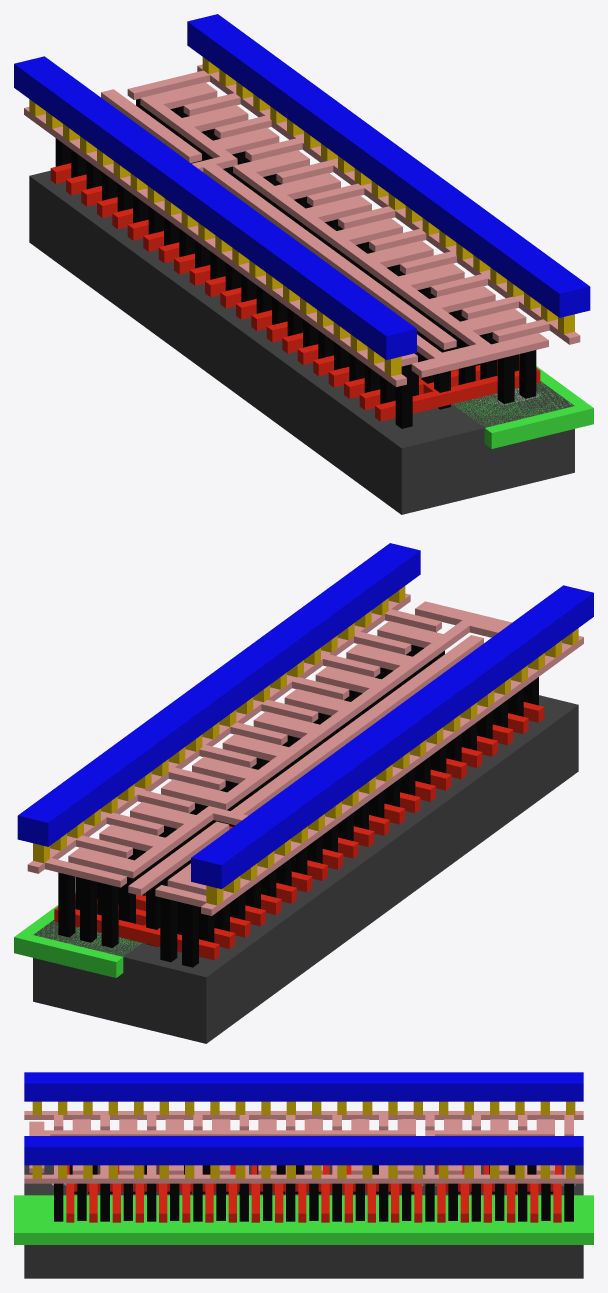
Rendered from sky130_fd_sc_hd__buf_16.obj.
3 views of the same model, one above another, from view 1: azimuth 30°, elevation 25°; view 2: azimuth 150°, elevation 25°; view 3: azimuth 270°, elevation 25° (orthographic). The views are drawn at different scales.
Parts seen in each view (by area): view 1: subs, metal1, li, licon, poly, mcon, nwell; view 2: subs, metal1, li, licon, poly, mcon, nwell; view 3: metal1, subs, nwell, li, licon, poly, mcon.
Part boxes in pixels (x1,y1,x2,y2): subs: [29, 170, 574, 514]; metal1: [14, 14, 590, 360]; li: [24, 64, 580, 386]; licon: [55, 99, 536, 428]; poly: [50, 163, 540, 421]; mcon: [29, 57, 574, 376]; nwell: [453, 354, 593, 448]; subs: [33, 695, 578, 1043]; metal1: [17, 543, 593, 889]; li: [27, 593, 583, 915]; licon: [58, 632, 538, 967]; poly: [54, 702, 544, 960]; mcon: [33, 586, 578, 905]; nwell: [14, 892, 141, 977]; metal1: [24, 1072, 583, 1165]; subs: [24, 1165, 583, 1278]; nwell: [14, 1195, 593, 1244]; li: [24, 1111, 583, 1183]; licon: [54, 1165, 573, 1221]; poly: [66, 1165, 561, 1222]; mcon: [32, 1101, 575, 1178].
Bounding box in the file's own units: 3.2 × 2.74 × 10.5.
